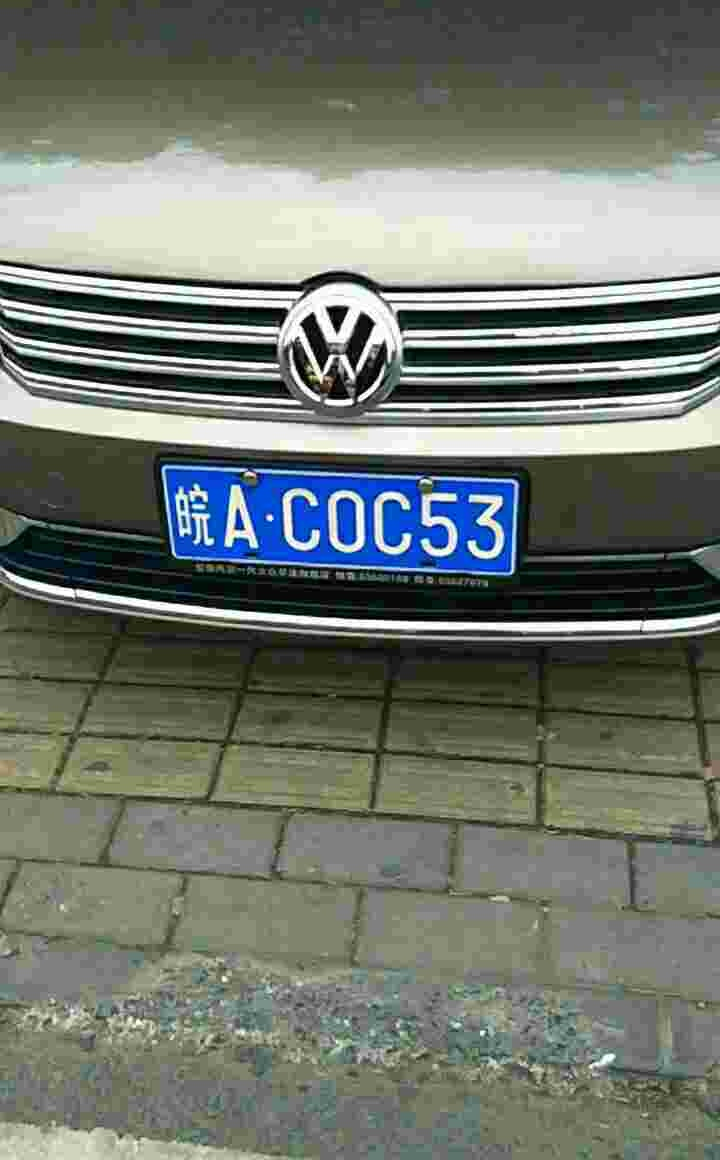license_plate: (161, 462, 539, 580)
